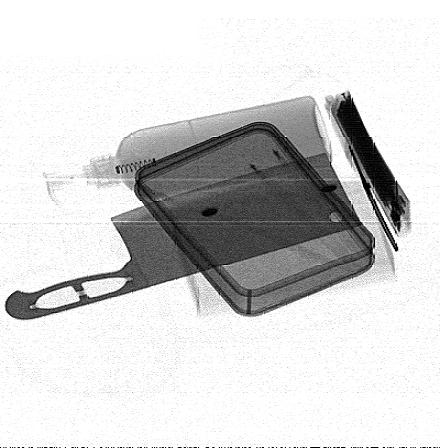Knife: (5, 151, 365, 321)
Powerbank: (328, 92, 411, 236)
Scissors: (345, 143, 407, 260)
